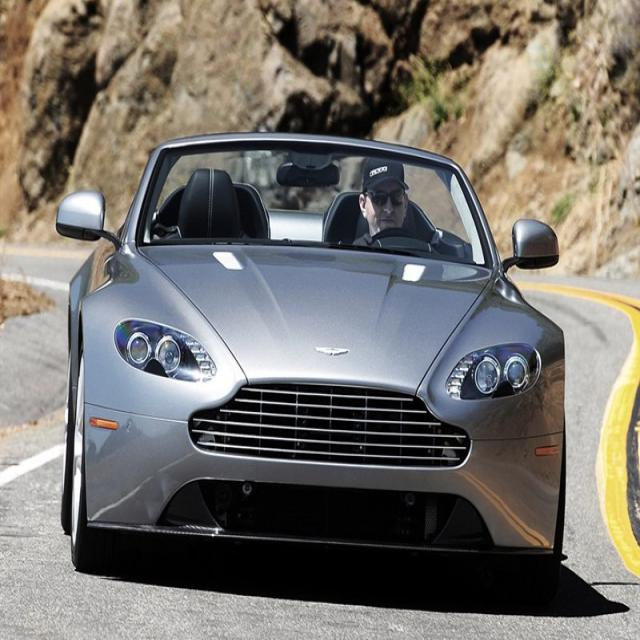front_bumper: (80, 397, 569, 562)
front_glass: (137, 140, 493, 273)
front_left_side_light: (444, 342, 545, 403)
front_left_side_mirror: (500, 217, 564, 275)
front_right_side_light: (112, 312, 218, 390)
front_right_side_mirror: (56, 183, 114, 240)
